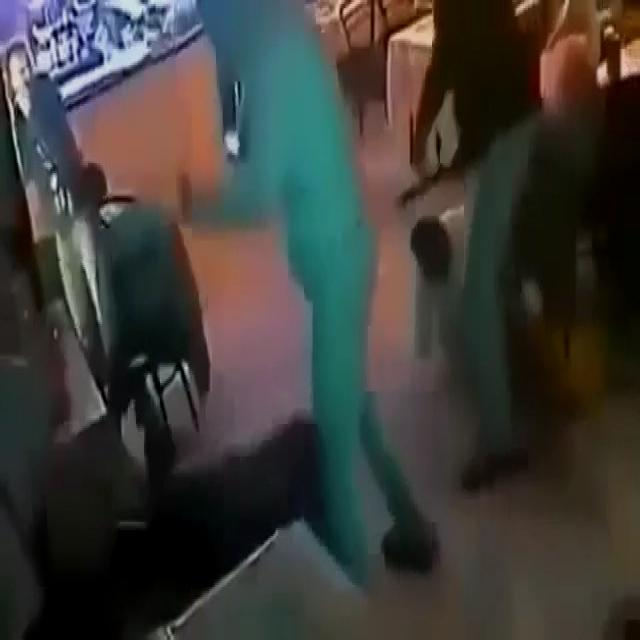fight: (222, 0, 391, 609)
